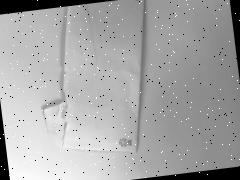paper: (0, 0, 192, 179)
